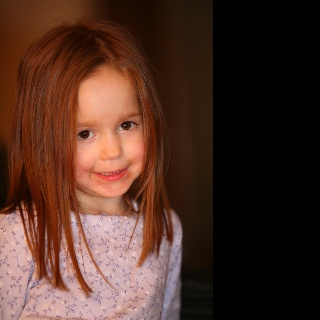without_mask: (0, 0, 172, 197)
